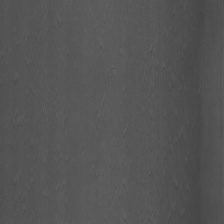silk_spot: (140, 107, 192, 175), (134, 32, 176, 97)
